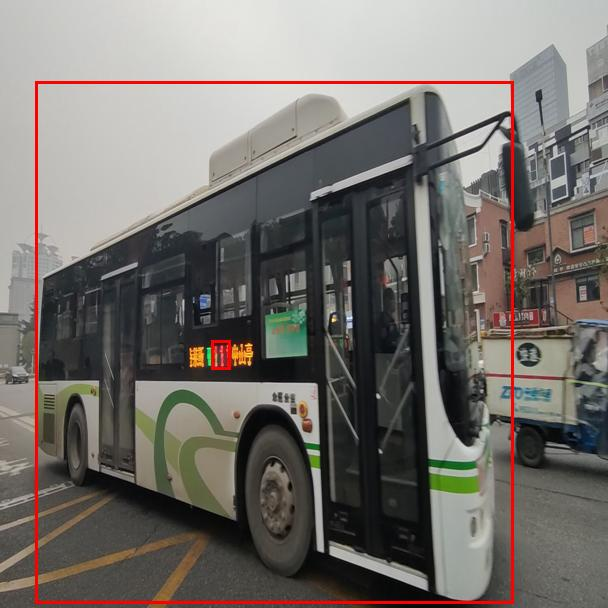bus: (35, 81, 513, 603)
screen: (211, 340, 230, 369)
